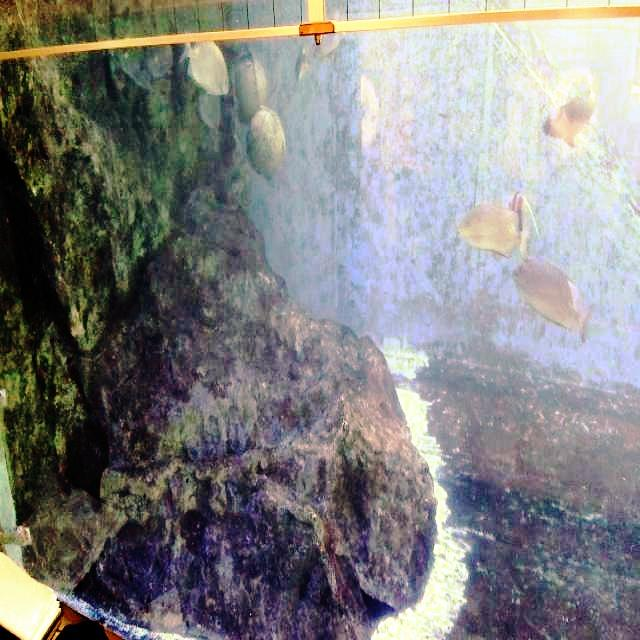angelfish: (503, 182, 540, 246)
gold snapper: (507, 252, 595, 352), (448, 188, 526, 266), (174, 30, 237, 106)
